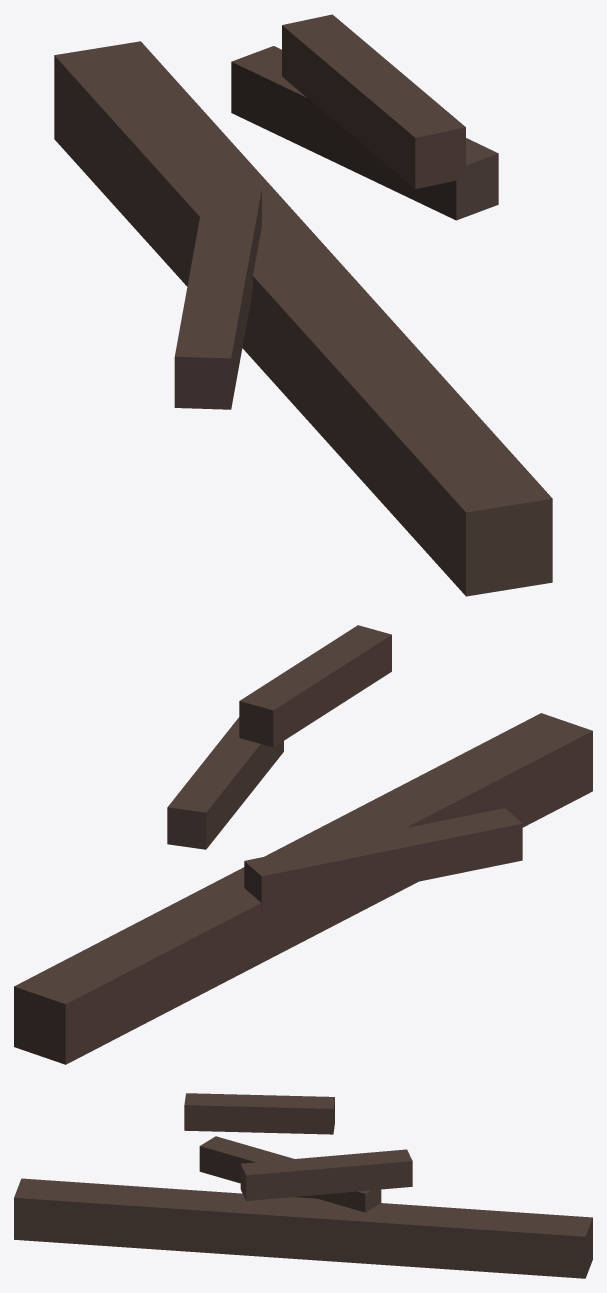
The model's file is EXTW_WestTree_00.glb.
3 views of the same model, one above another, from view 1: azimuth 30°, elevation 25°; view 2: azimuth 150°, elevation 25°; view 3: azimuth 270°, elevation 25° (orthographic). The views are drawn at different scales.
Visible parts, largest first — view 1: EXTW_WestTree_00; view 2: EXTW_WestTree_00; view 3: EXTW_WestTree_00.
Part boxes in pixels (x1,y1,x2,y2): EXTW_WestTree_00: (54, 14, 552, 596); EXTW_WestTree_00: (14, 625, 592, 1064); EXTW_WestTree_00: (14, 1093, 592, 1278).
Bounding box in the file's own units: 0.7951 × 0.665 × 2.25.
